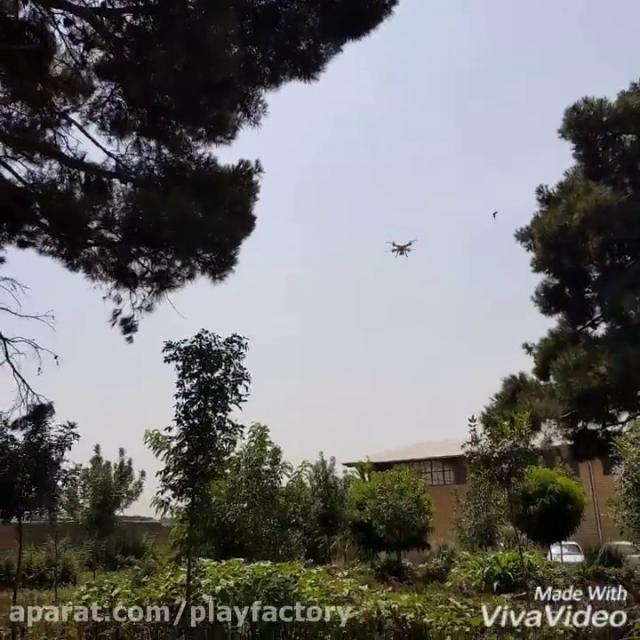drone: (383, 231, 422, 262)
